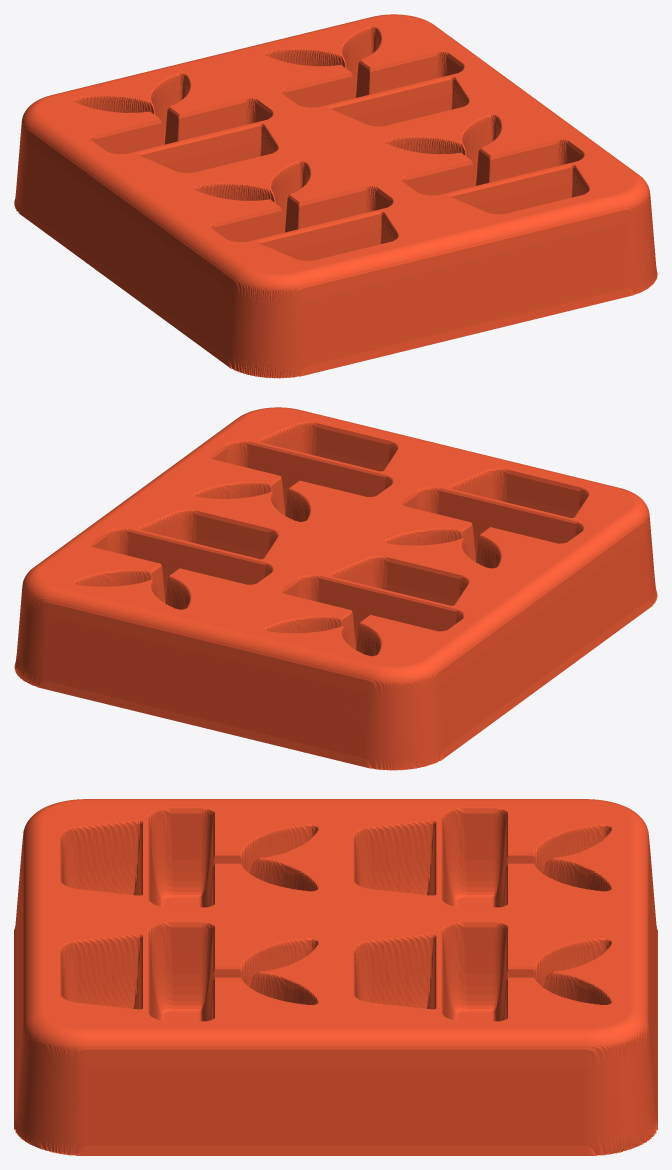
File: mold.glb
3 renders of one model, top to bottom at view 1: azimuth 30°, elevation 25°; view 2: azimuth 150°, elevation 25°; view 3: azimuth 270°, elevation 25°, orthographic. The views are drawn at different scales.
Visible parts, largest first — view 1: geometry_0; view 2: geometry_0; view 3: geometry_0.
Boxes of the visible parts, left/top/right/bottom form: geometry_0: left=14, top=14, right=657, bottom=378; geometry_0: left=14, top=407, right=657, bottom=770; geometry_0: left=14, top=799, right=657, bottom=1155.
Bounding box in the file's own units: 0.0748 × 0.0159 × 0.0808.
